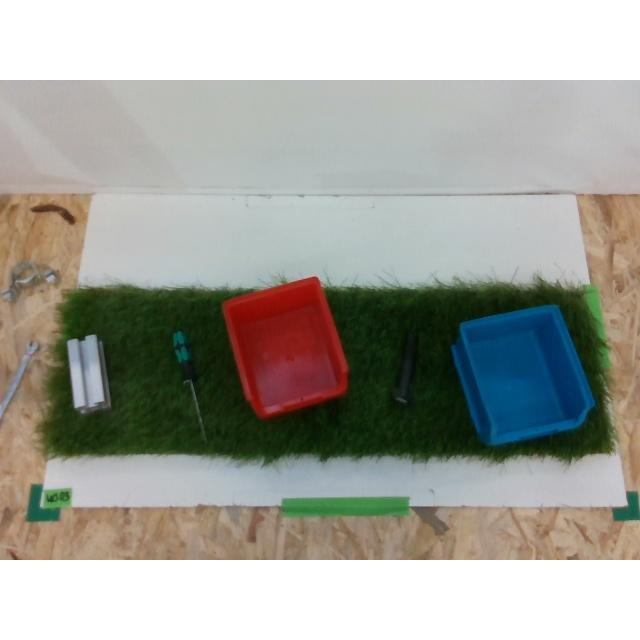Housing: (0, 260, 60, 300)
M20_100: (392, 330, 418, 406)
S40_40_G: (66, 334, 110, 412)
Screwdriver: (172, 329, 208, 447)
Wrench: (1, 340, 40, 416)
container_box_blue: (452, 305, 596, 445)
container_box_red: (222, 276, 348, 419)
